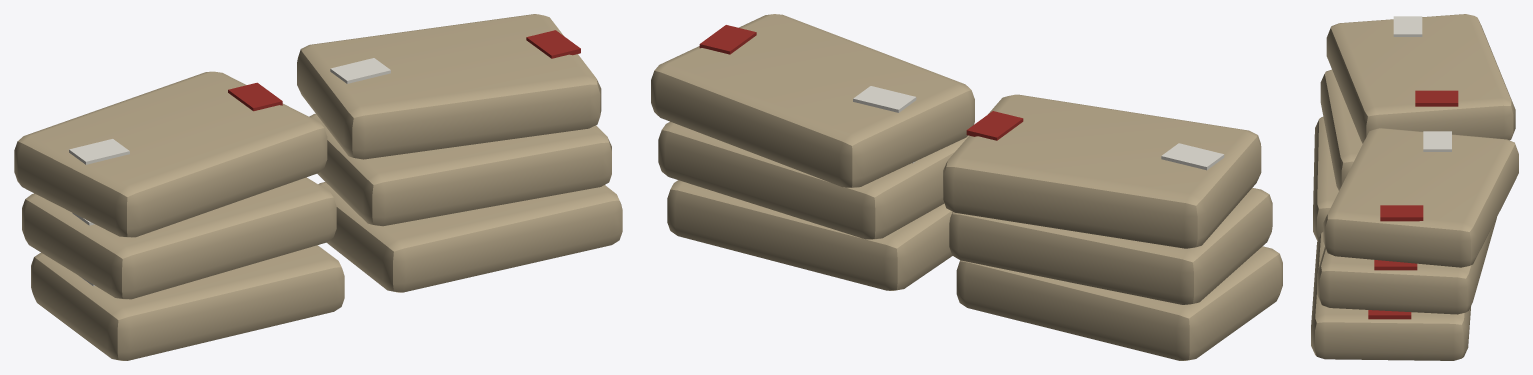
File: prop_night_drop_bags.glb
3 renders of one model, left to right at view 1: azimuth 30°, elevation 25°; view 2: azimuth 150°, elevation 25°; view 3: azimuth 270°, elevation 25°, orthographic. The views are drawn at different scales.
Visible parts, largest first — view 1: Pouches; view 2: Pouches; view 3: Pouches.
Part boxes in pixels (x1=…): Pouches: x1=14, y1=14, x2=622, y2=360; Pouches: x1=651, y1=14, x2=1282, y2=360; Pouches: x1=1311, y1=14, x2=1518, y2=360.
Size of the model in its own units: 0.7282 by 0.223 by 0.2909.
